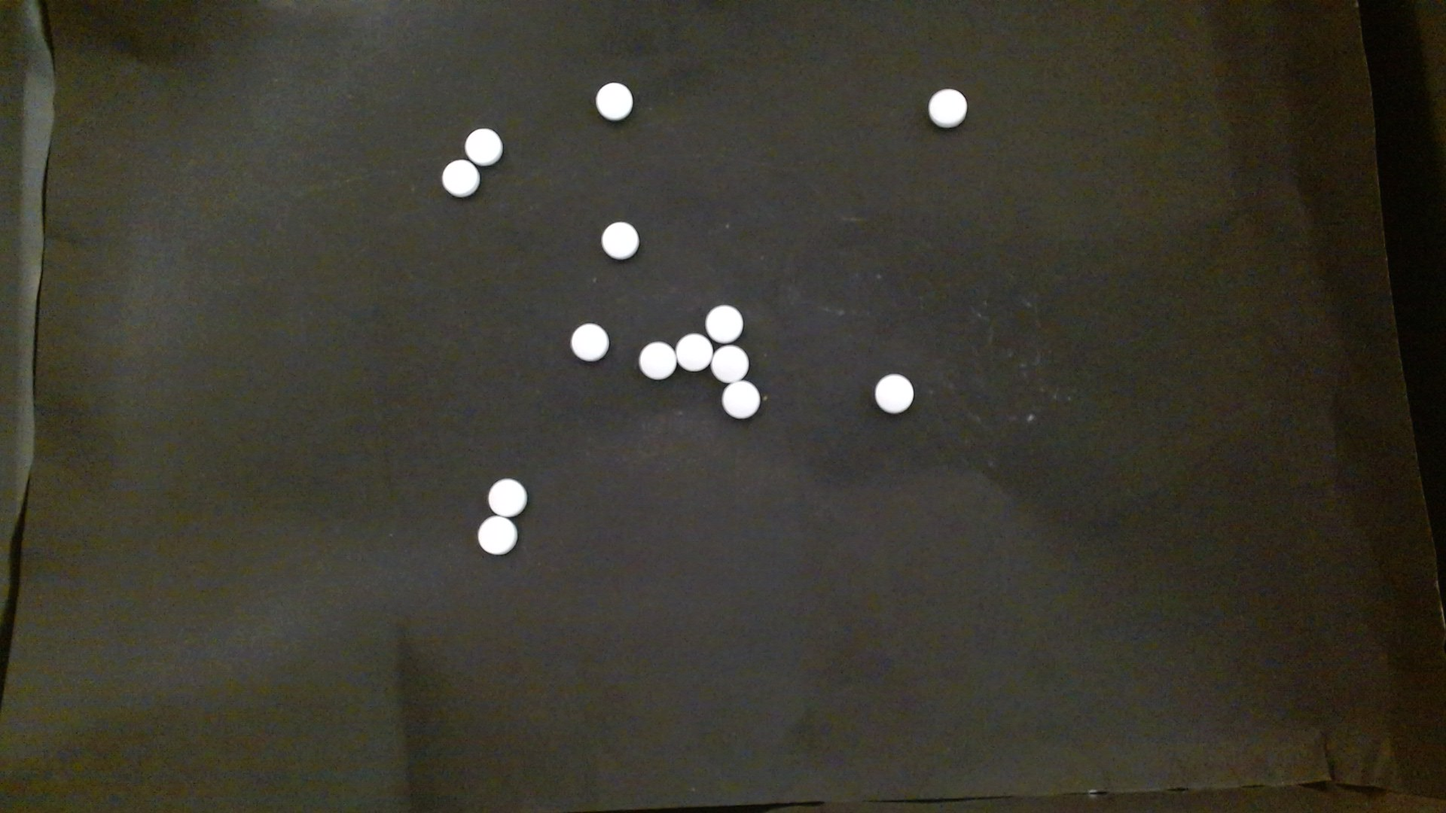Circle: (487, 477, 529, 517), (721, 380, 761, 419), (874, 374, 914, 413), (477, 517, 517, 556), (570, 323, 609, 362), (594, 81, 633, 120), (929, 87, 968, 126), (706, 303, 744, 343), (600, 222, 639, 260), (465, 126, 503, 165), (441, 159, 479, 197), (638, 341, 676, 379), (711, 344, 749, 382), (676, 333, 712, 372)
